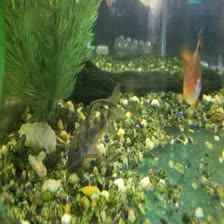Kiros: (65, 85, 128, 174)
Transparente: (179, 32, 206, 106)
